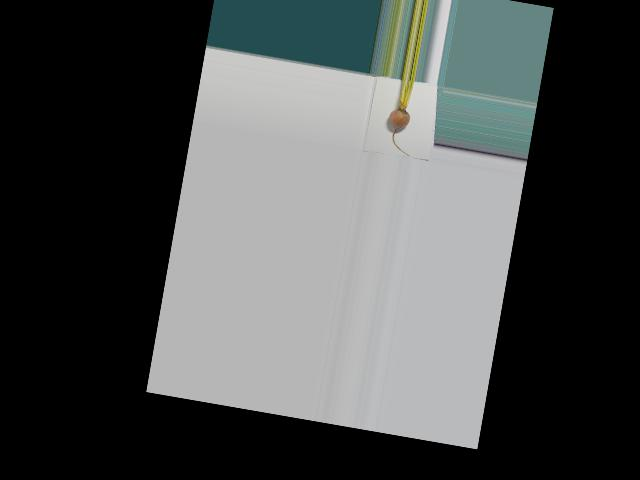beet: (383, 78, 421, 156)
